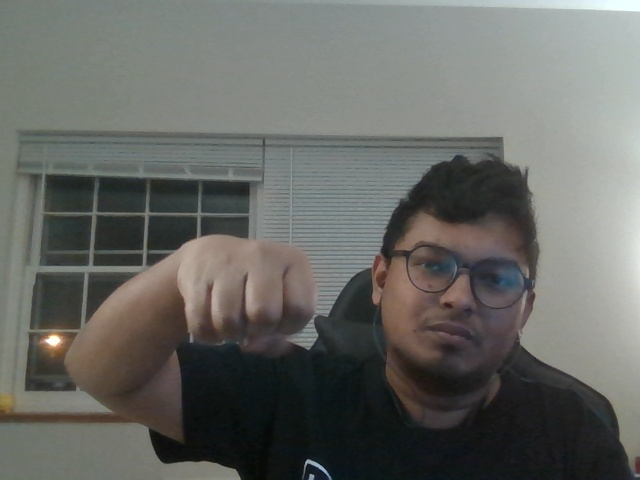yes: (144, 212, 344, 381)
